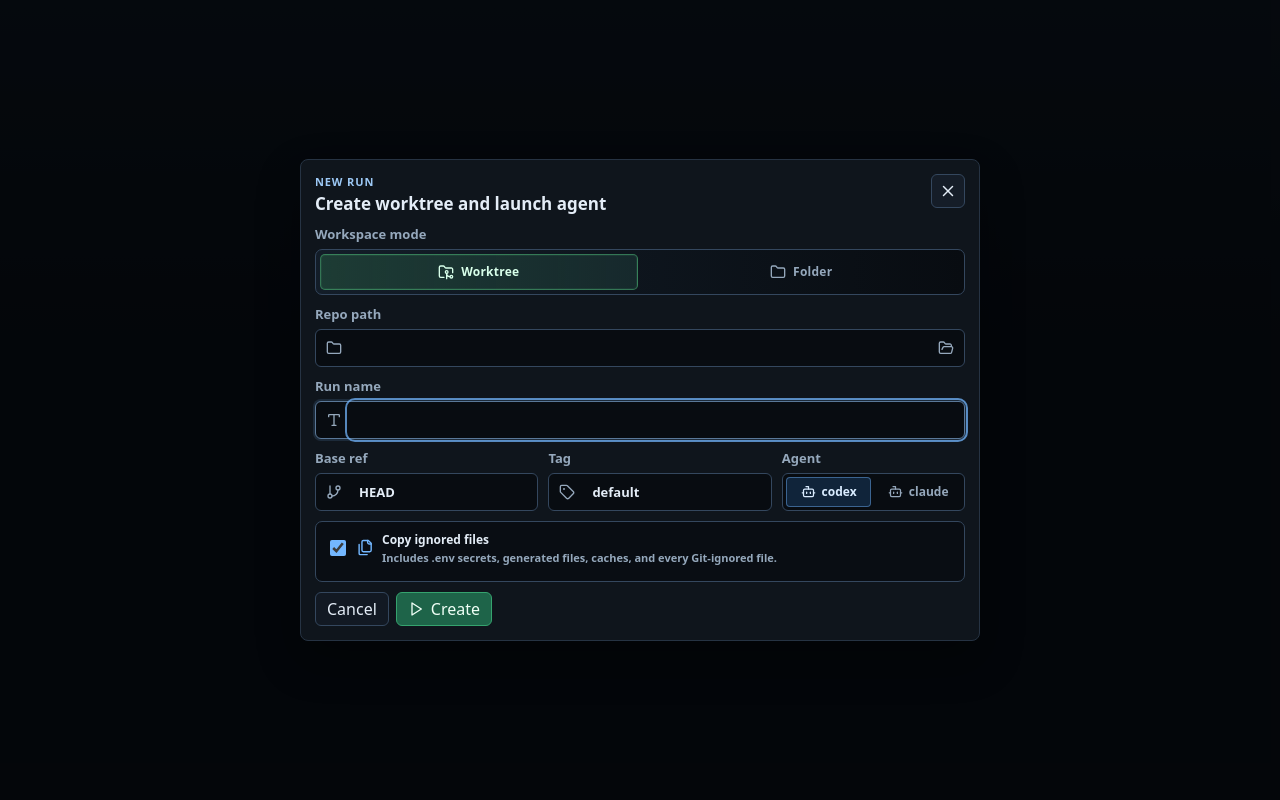
Test case: CreateRunModal › fills repo path from the native folder picker
What coordinates should you click on to do the following:
click the button named "browse repo folder"
I would click on:
 (946, 348)
Its box is x1=931 y1=333 x2=961 y2=363.
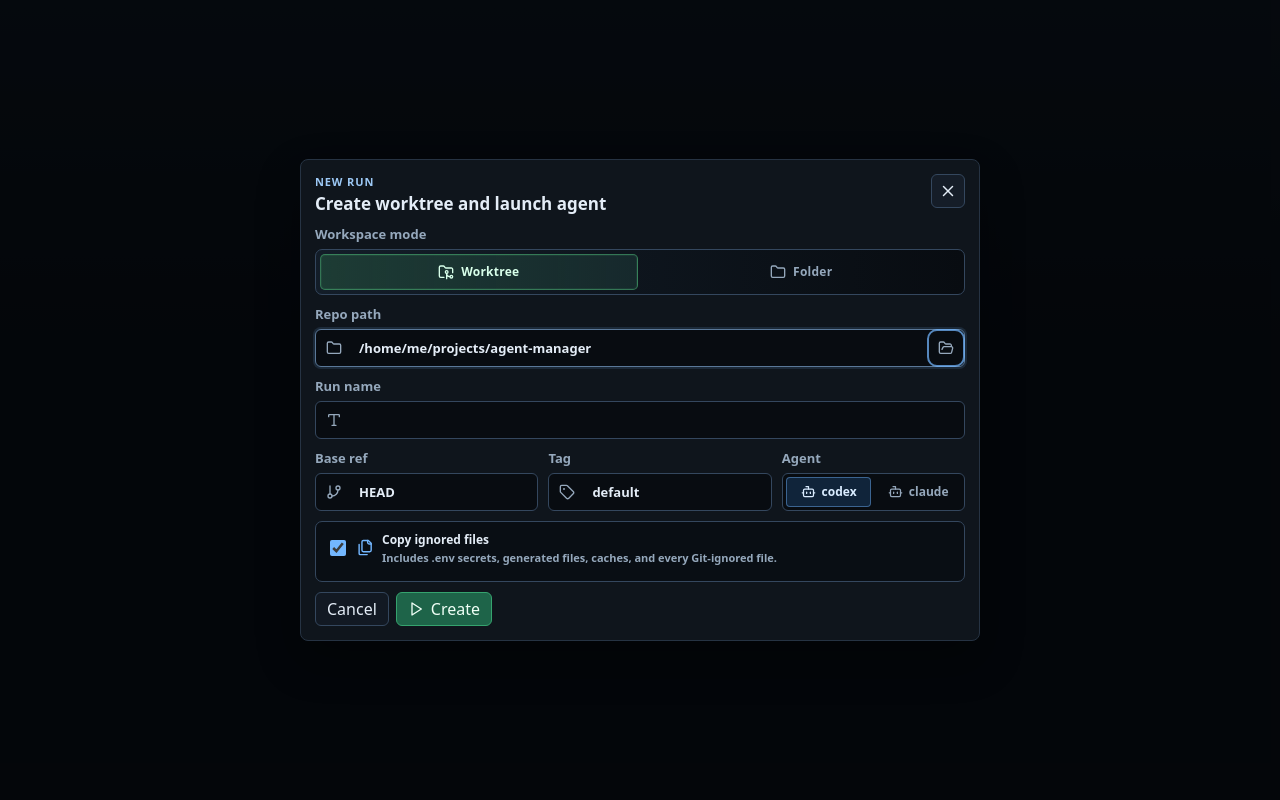
Result: the dropdown labelled "Repo path" holds "/home/me/projects/agent-manager" at x1=349 y1=330 x2=924 y2=366
